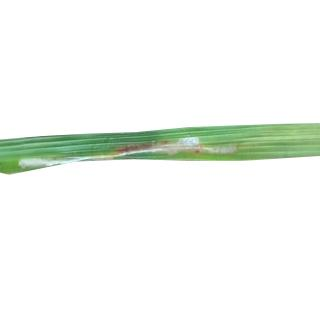Hawar-Daun: (110, 148, 240, 154), (19, 154, 55, 167), (178, 134, 198, 152)
